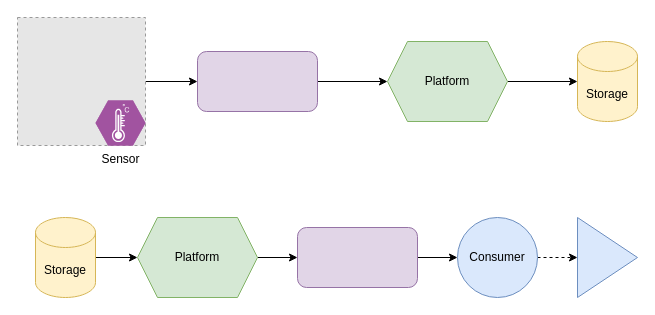
Some shapes in this 655 by 315 pixel diagram are drawn without their labels. Grey dashed boxes stand in for pictures. The box of each missing label's shape, as (x1, y1, x2, y2) in pixels:
Action: (576, 216, 638, 298)
Presentation API: (296, 226, 418, 288)
Sensor API: (196, 50, 318, 112)
